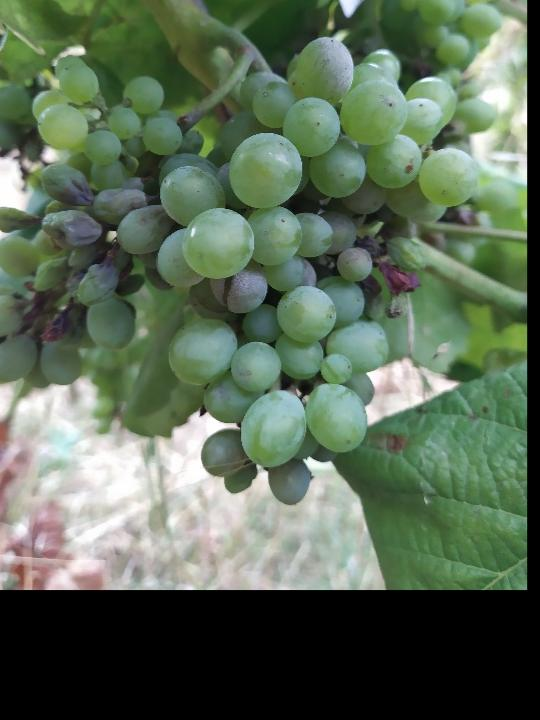grape: (14, 32, 480, 506)
